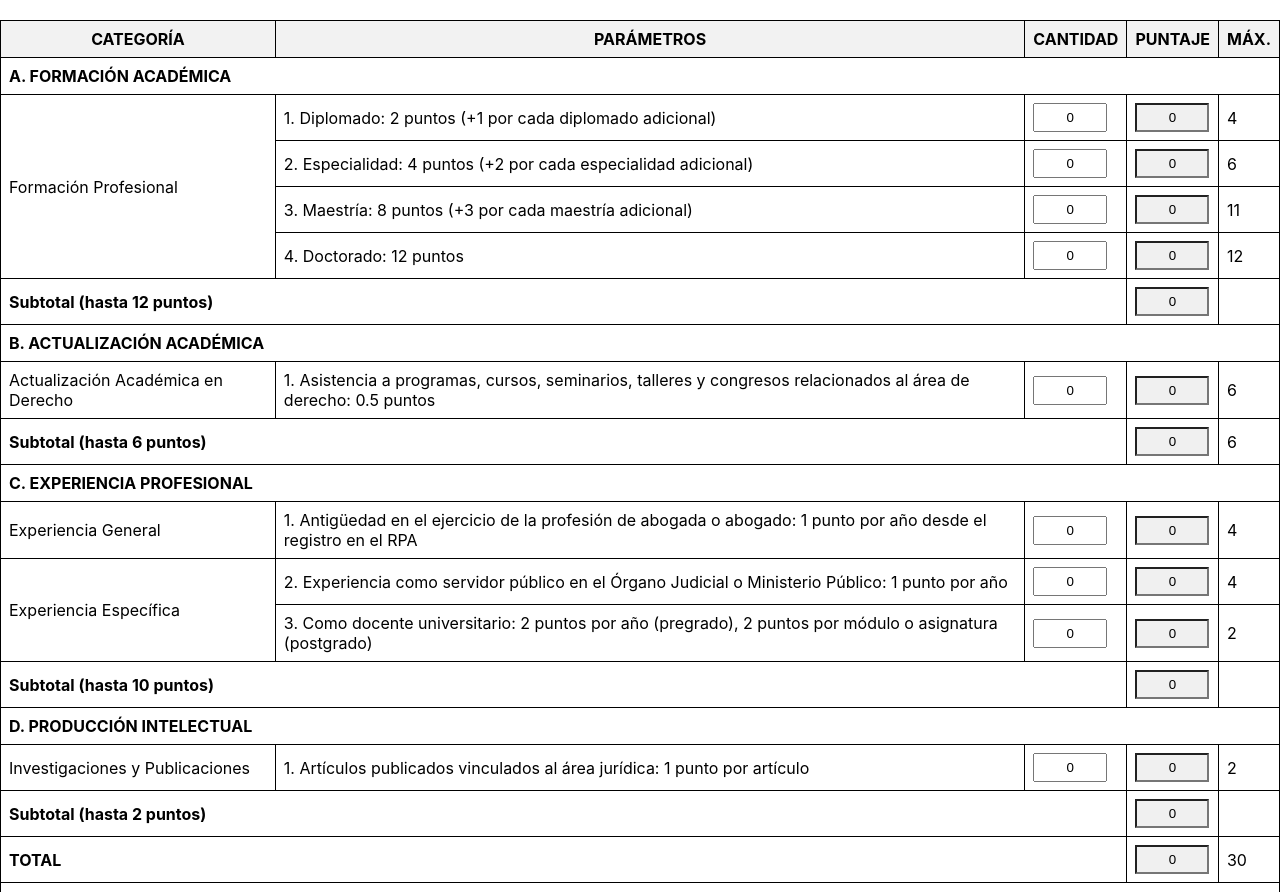
Test: Cantidad de Diplomado › debería mostrar 2 puntos cuando se ingrese 1
Replace the text in the field with test id "diplomado-quantity" with "1": (1070, 118) [1033,103,1107,132]
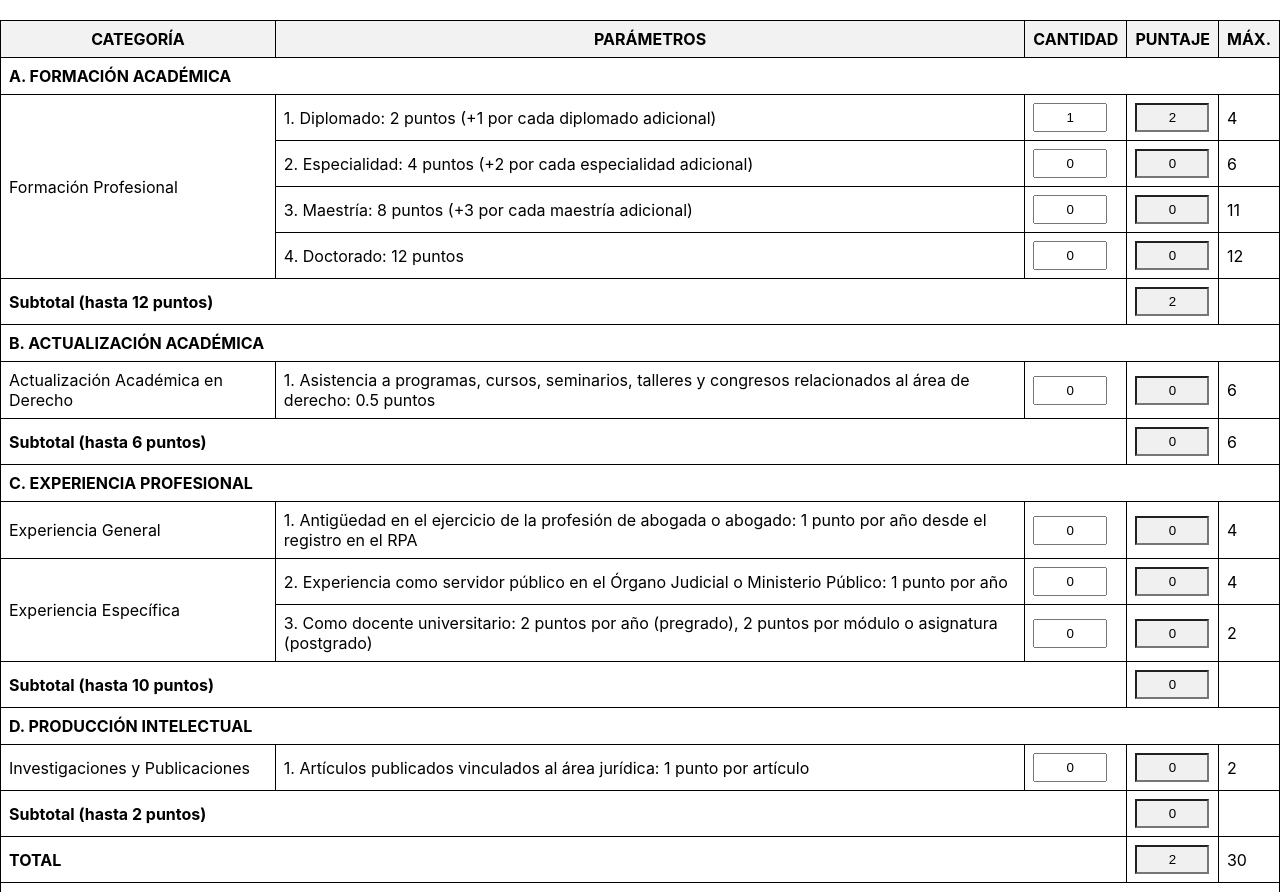
Check: the field with test id "diplomado-score" holds "2", box [1135,103,1209,132]
